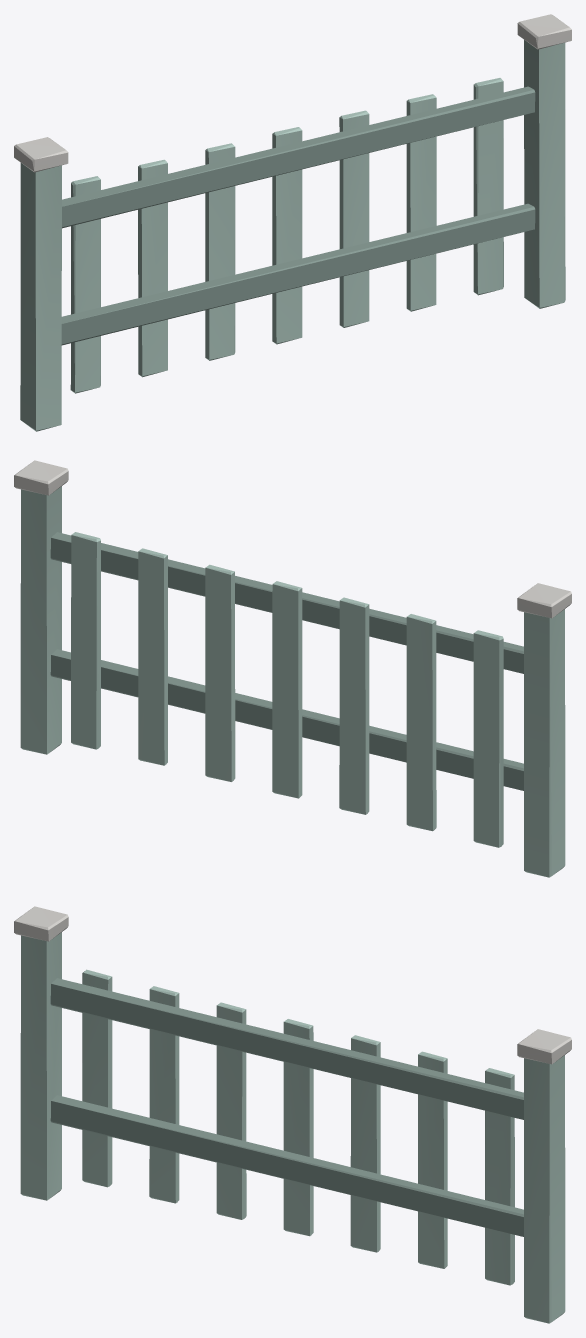
File: furn_fence_piece__mint_low.glb
3 renders of one model, top to bottom at view 1: azimuth 30°, elevation 25°; view 2: azimuth 150°, elevation 25°; view 3: azimuth 330°, elevation 25°, orthographic.
Bounding box in the file's own units: 1.93 × 0.945 × 0.1257.
